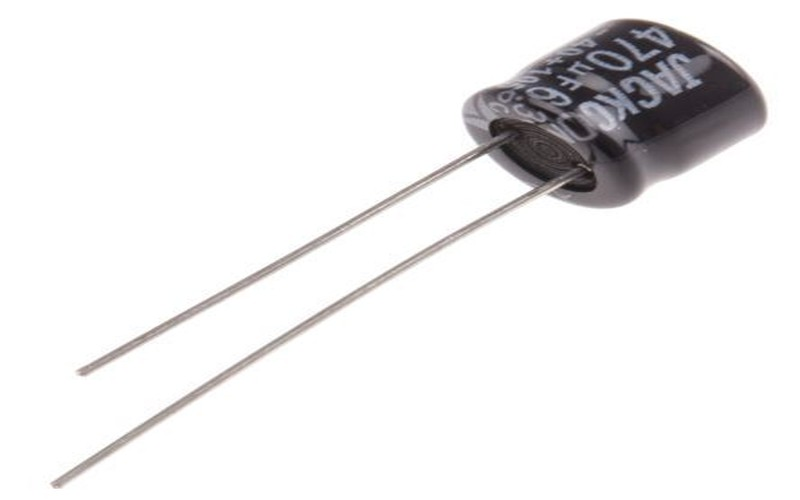Capacitor: (38, 20, 779, 500)
